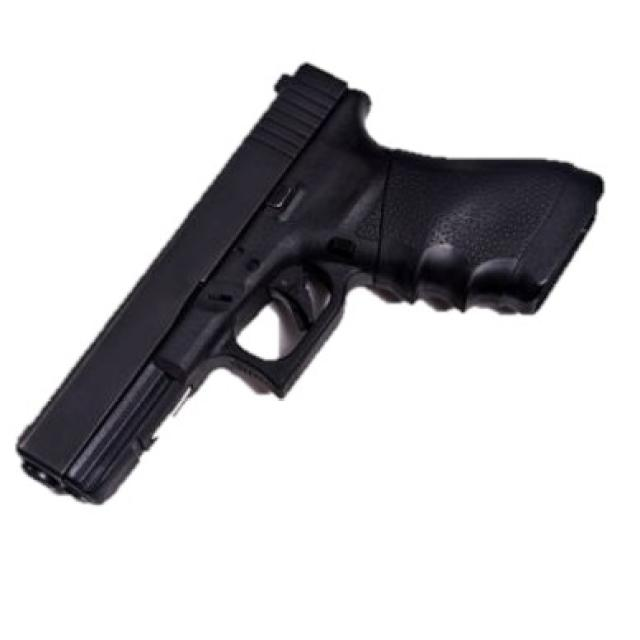pistol: (19, 35, 615, 512)
